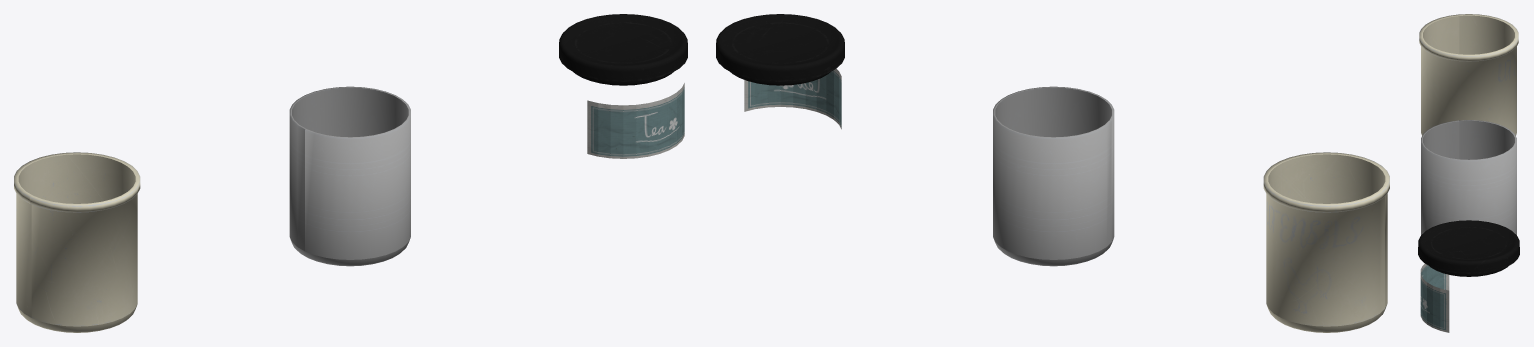
Rendered from jars.fbx.
The picture shows the model from 3 angles, left to right: view 1: azimuth 30°, elevation 25°; view 2: azimuth 150°, elevation 25°; view 3: azimuth 270°, elevation 25°; orthographic projection. The views are drawn at different scales.
Visible parts, largest first — view 1: Jar02, Jar01, JarTop, labelTea; view 2: Jar02, Jar01, JarTop, labelTea; view 3: Jar02, Jar01, JarTop, labelTea.
Part boxes in pixels (box(x1,y1,x2,y2)): Jar02: box(14, 152, 140, 332); Jar01: box(289, 86, 410, 266); JarTop: box(559, 14, 687, 85); labelTea: box(587, 83, 684, 158); Jar02: box(1263, 152, 1389, 332); Jar01: box(993, 86, 1114, 266); JarTop: box(716, 14, 844, 85); labelTea: box(744, 69, 841, 129); Jar02: box(1419, 14, 1518, 135); Jar01: box(1421, 120, 1516, 234); JarTop: box(1418, 220, 1519, 276); labelTea: box(1420, 263, 1449, 332).
Bounding box in the file's own units: 154 × 30.79 × 26.17.
2 materials, 2 textured.
